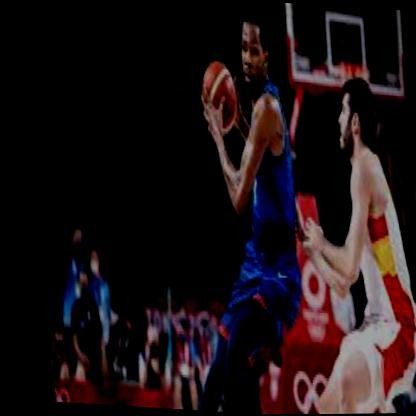basketball: (191, 56, 240, 138)
